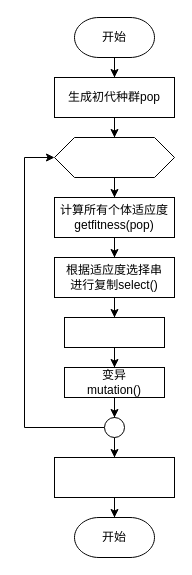
Image size: 192x575. Some labels were removed from this diagram. Here are the shapes that lost their labels. From the top down, the box of each, then its label:
(54, 136, 174, 178): for i in range(Iterations)
(64, 316, 164, 348): 交叉 crossmuta()
(54, 456, 174, 498): 输出最优解
